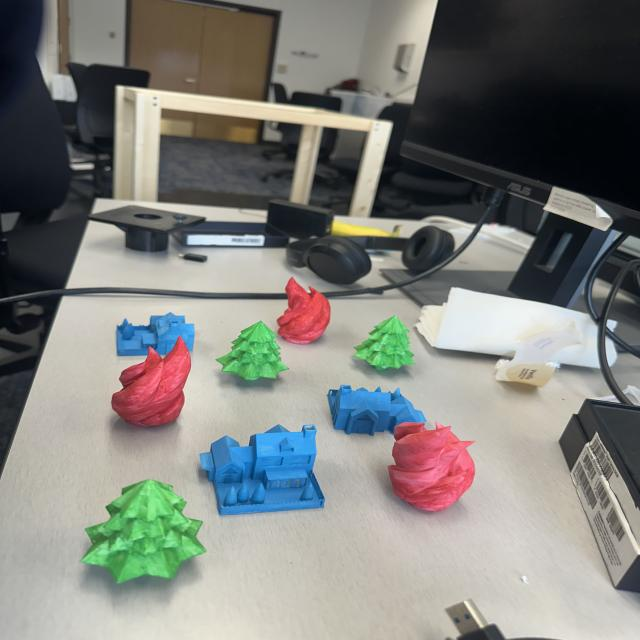fire: (388, 419, 478, 514), (110, 335, 193, 427), (274, 275, 333, 345)
house: (198, 423, 329, 518), (326, 384, 428, 436), (116, 312, 197, 356)
tree: (81, 478, 209, 586), (214, 321, 290, 381), (353, 314, 418, 372)
